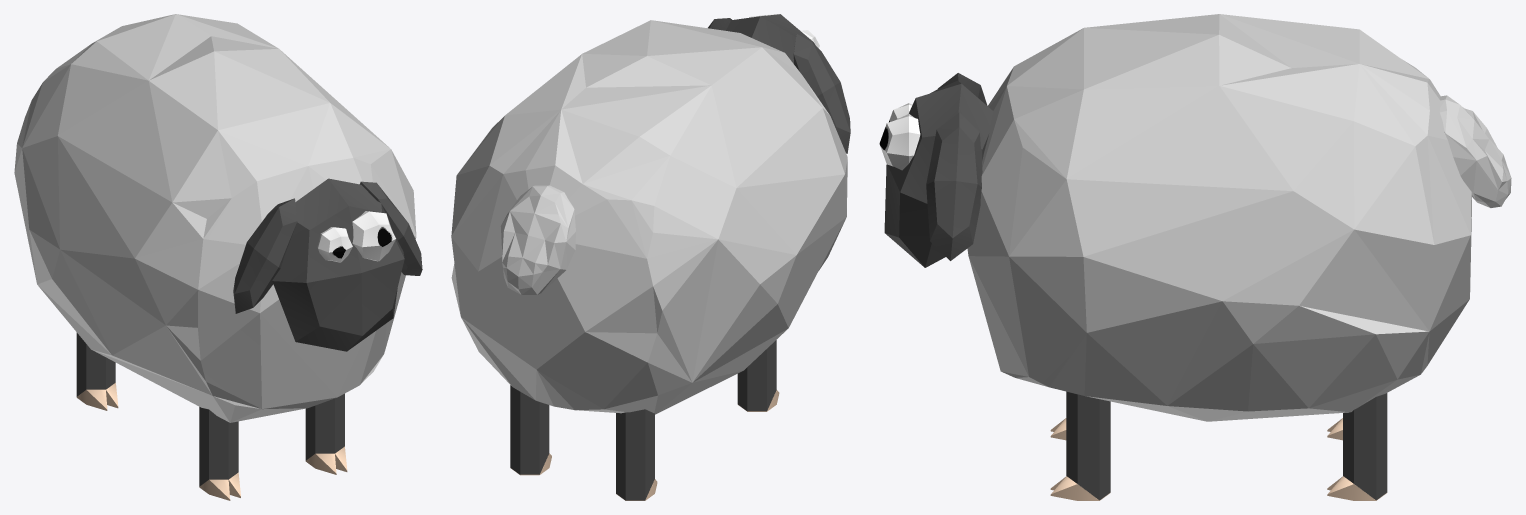
File: sheep_high.fbx
The picture shows the model from 3 angles, left to right: view 1: azimuth 30°, elevation 25°; view 2: azimuth 150°, elevation 25°; view 3: azimuth 270°, elevation 25°; orthographic projection. The views are drawn at different scales.
Visible parts, largest first — view 1: sheep-colorable, sheep-model, sheep-eyeLarge, sheep-eyeSmall; view 2: sheep-colorable, sheep-model, sheep-tail; view 3: sheep-colorable, sheep-model, sheep-tail, sheep-eyeLarge.
Boxes of the visible parts, left/top/right/bottom form: sheep-colorable: left=14, top=14, right=416, bottom=422; sheep-model: left=76, top=178, right=422, bottom=500; sheep-eyeLarge: left=352, top=211, right=395, bottom=261; sheep-eyeSmall: left=317, top=227, right=352, bottom=262; sheep-colorable: left=451, top=20, right=847, bottom=414; sheep-model: left=510, top=14, right=850, bottom=500; sheep-tail: left=500, top=185, right=575, bottom=294; sheep-colorable: left=967, top=14, right=1471, bottom=421; sheep-model: left=884, top=73, right=1387, bottom=500; sheep-tail: left=1439, top=95, right=1511, bottom=207; sheep-eyeLarge: left=879, top=114, right=920, bottom=170.
Size of the model in its own units: 86.05 by 103 by 137.
